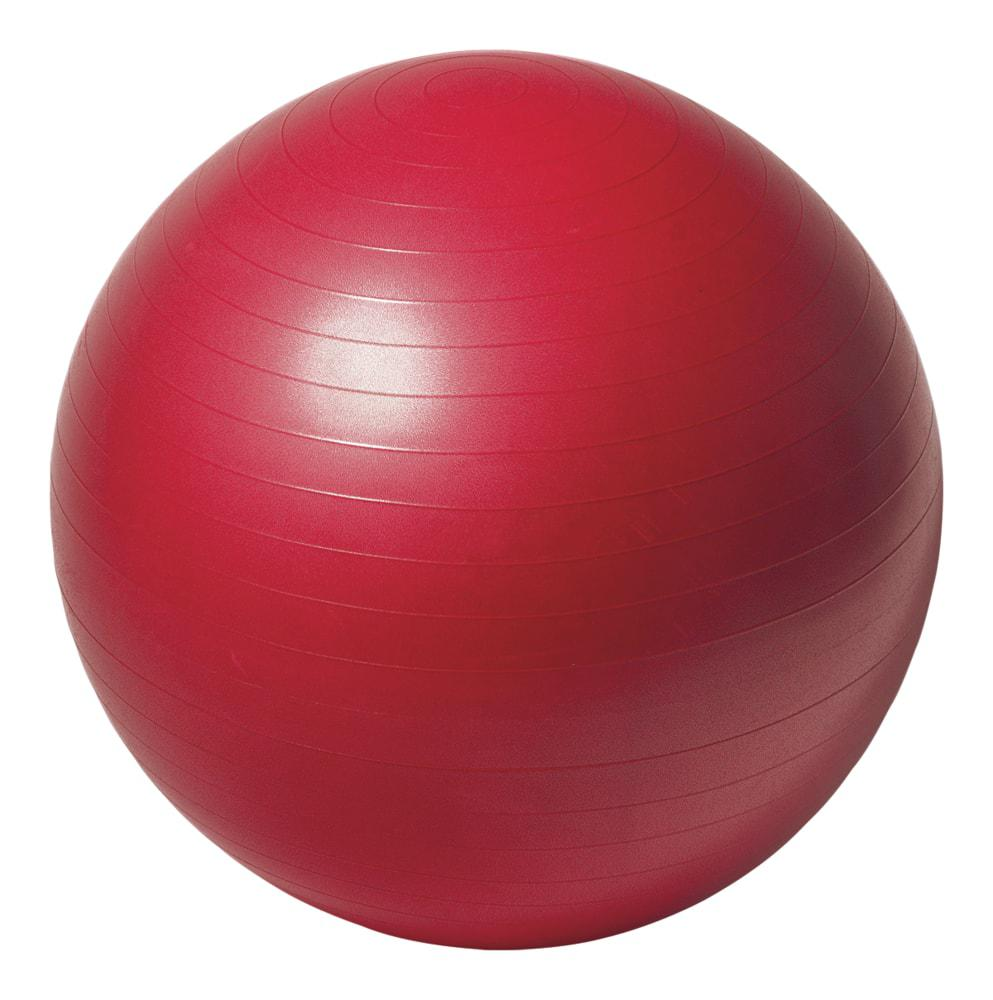sphere: (52, 52, 944, 950)
